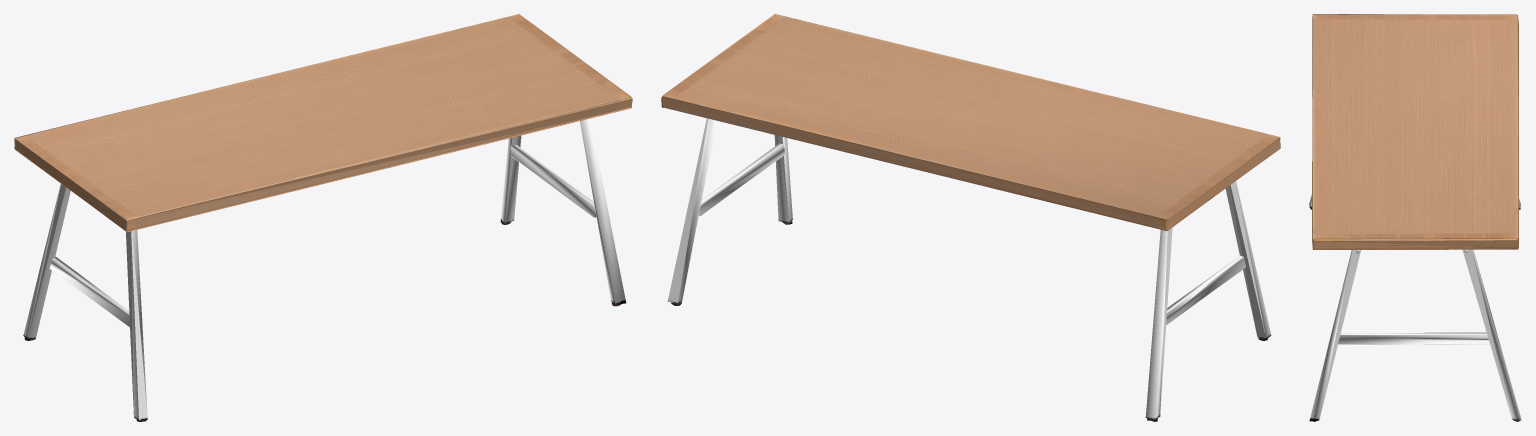
File: Meshy_AI_Long_wooden_workbench_0731081450_texture.obj
3 views of the same model, side by side, from view 1: azimuth 30°, elevation 25°; view 2: azimuth 150°, elevation 25°; view 3: azimuth 270°, elevation 25° (orthographic). The views are drawn at different scales.
Parts seen in each view (by area): view 1: Meshy_AI_Long_wooden_workbench_0731081450_texture; view 2: Meshy_AI_Long_wooden_workbench_0731081450_texture; view 3: Meshy_AI_Long_wooden_workbench_0731081450_texture.
Part boxes in pixels (left/top/right/bottom): Meshy_AI_Long_wooden_workbench_0731081450_texture: left=14, top=14, right=632, bottom=421; Meshy_AI_Long_wooden_workbench_0731081450_texture: left=661, top=14, right=1280, bottom=421; Meshy_AI_Long_wooden_workbench_0731081450_texture: left=1309, top=14, right=1521, bottom=421.
Bounding box in the file's own units: 0.998 × 0.3887 × 0.3975.
1 material, 1 textured.
